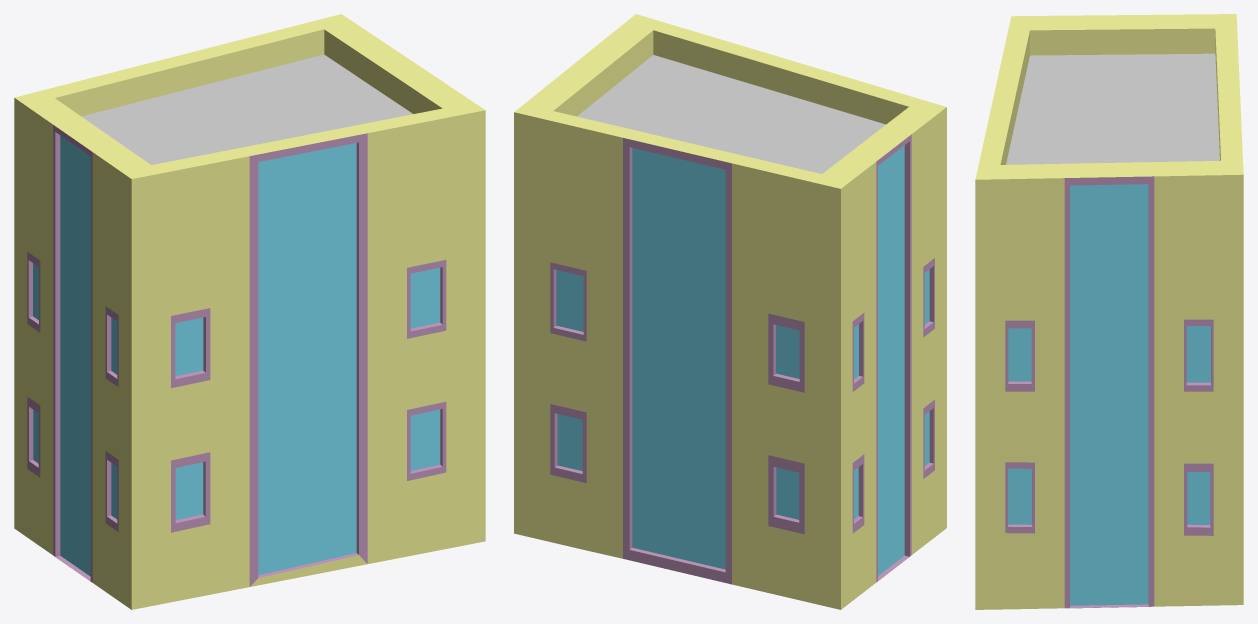
File: Skyscraper_02.fbx
The picture shows the model from 3 angles, left to right: view 1: azimuth 30°, elevation 25°; view 2: azimuth 150°, elevation 25°; view 3: azimuth 270°, elevation 25°; orthographic projection. The views are drawn at different scales.
Visible parts, largest first — view 1: Building_17; view 2: Building_17; view 3: Building_17.
Boxes of the visible parts, <box> form: Building_17: <box>14,14,485,609</box>; Building_17: <box>514,14,946,609</box>; Building_17: <box>975,14,1243,609</box>.
Size of the model in its own units: 6501 by 7869 by 4443.
